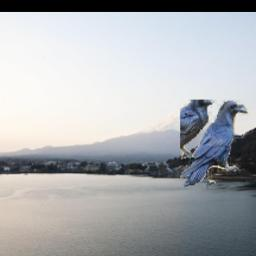Crow: (180, 101, 249, 189)
